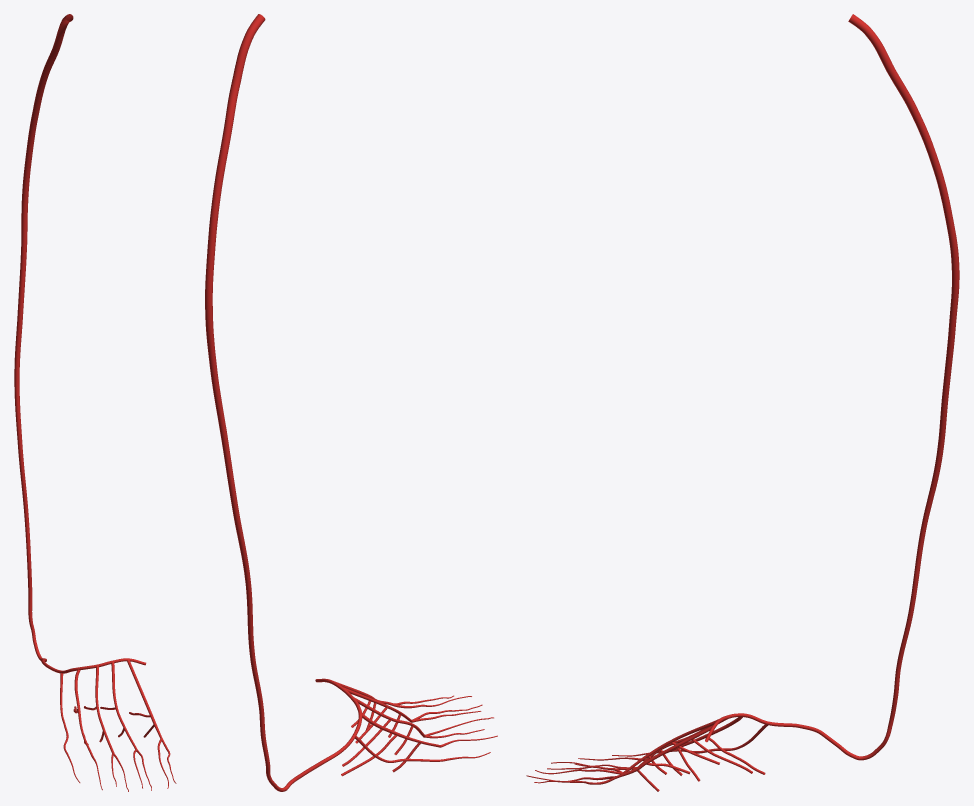
Rendered from circulatorio-small-saphenous-vein-r.glb.
3 views of the same model, side by side, from view 1: azimuth 30°, elevation 25°; view 2: azimuth 150°, elevation 25°; view 3: azimuth 270°, elevation 25° (orthographic). The views are drawn at different scales.
Parts seen in each view (by area): view 1: Small saphenous vein.r, Dorsal metatarsal veins.r, Dorsal digital veins of foot.r, Dorsal venous arch of foot.r; view 2: Small saphenous vein.r, Dorsal metatarsal veins.r, Dorsal digital veins of foot.r, Intercapitular veins of foot.r, Dorsal venous arch of foot.r; view 3: Small saphenous vein.r, Dorsal metatarsal veins.r, Dorsal digital veins of foot.r, Intercapitular veins of foot.r.
Part boxes in pixels (x1,y1,x2,y2): Small saphenous vein.r: (14,14,73,661); Dorsal metatarsal veins.r: (60,659,162,755); Dorsal digital veins of foot.r: (66,738,176,791); Dorsal venous arch of foot.r: (41,658,146,673); Small saphenous vein.r: (205,14,322,791); Dorsal metatarsal veins.r: (335,681,449,762); Dorsal digital veins of foot.r: (389,695,497,760); Intercapitular veins of foot.r: (341,701,421,776); Dorsal venous arch of foot.r: (315,678,362,763); Small saphenous vein.r: (821,14,959,760); Dorsal metatarsal veins.r: (616,717,768,778); Dorsal digital veins of foot.r: (526,751,660,784); Intercapitular veins of foot.r: (637,738,765,791).
Size of the model in its own units: 0.0792 by 0.4771 by 0.2358.
